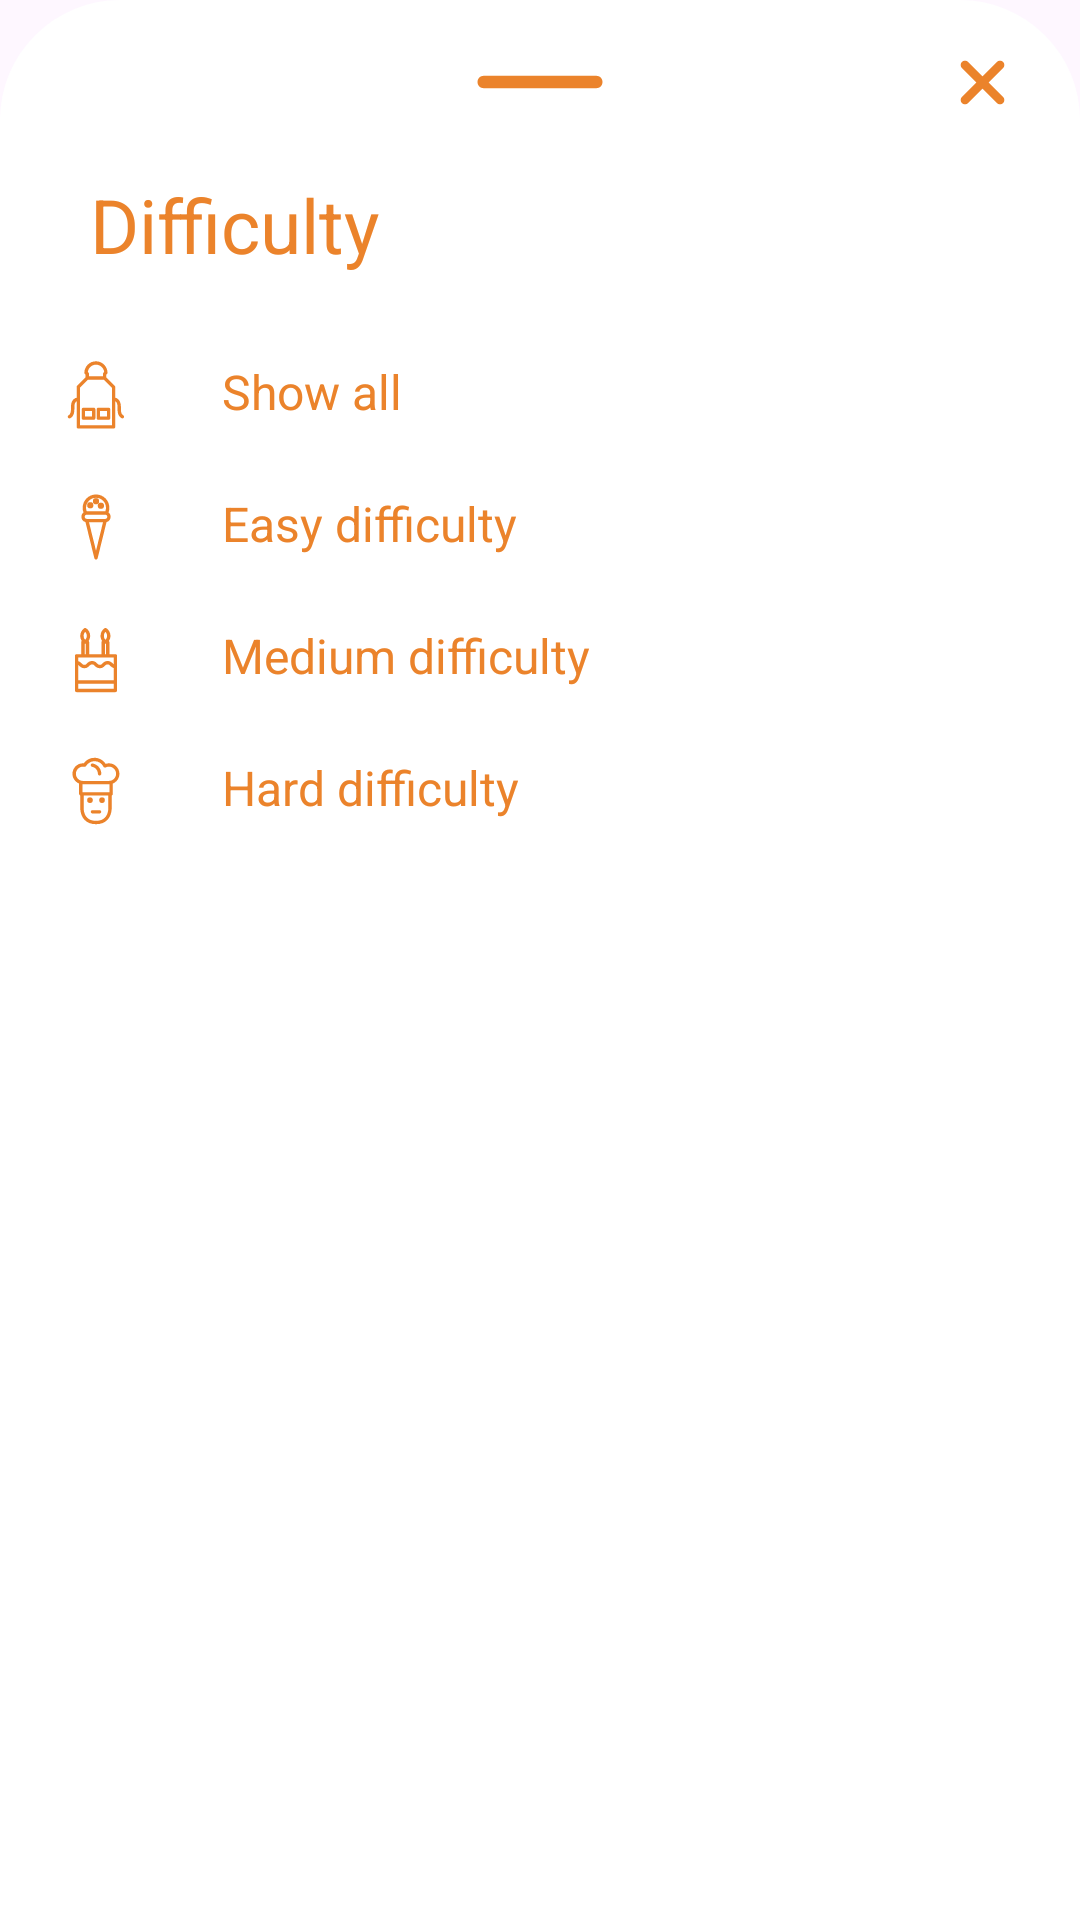

Icons on this 1080px x 1920px Android screen, each with the point to tap as point (x, y):
Close Button: point (982, 82)
